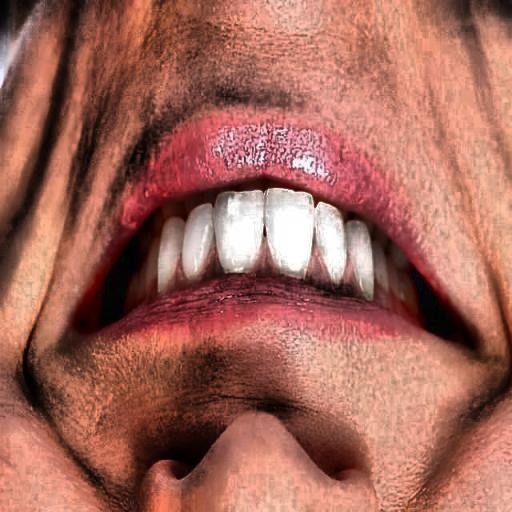Healthy: (109, 129, 458, 378)
